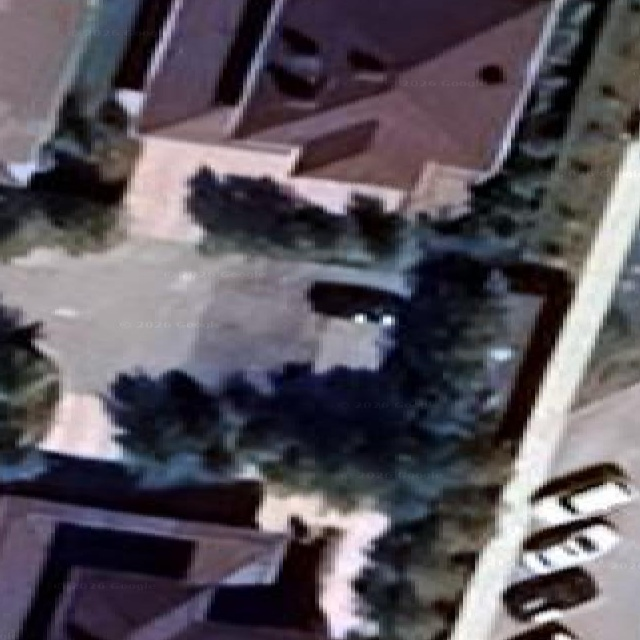car: (532, 464, 637, 523), (521, 518, 619, 574), (503, 567, 597, 621), (307, 282, 403, 326), (510, 622, 577, 639)
